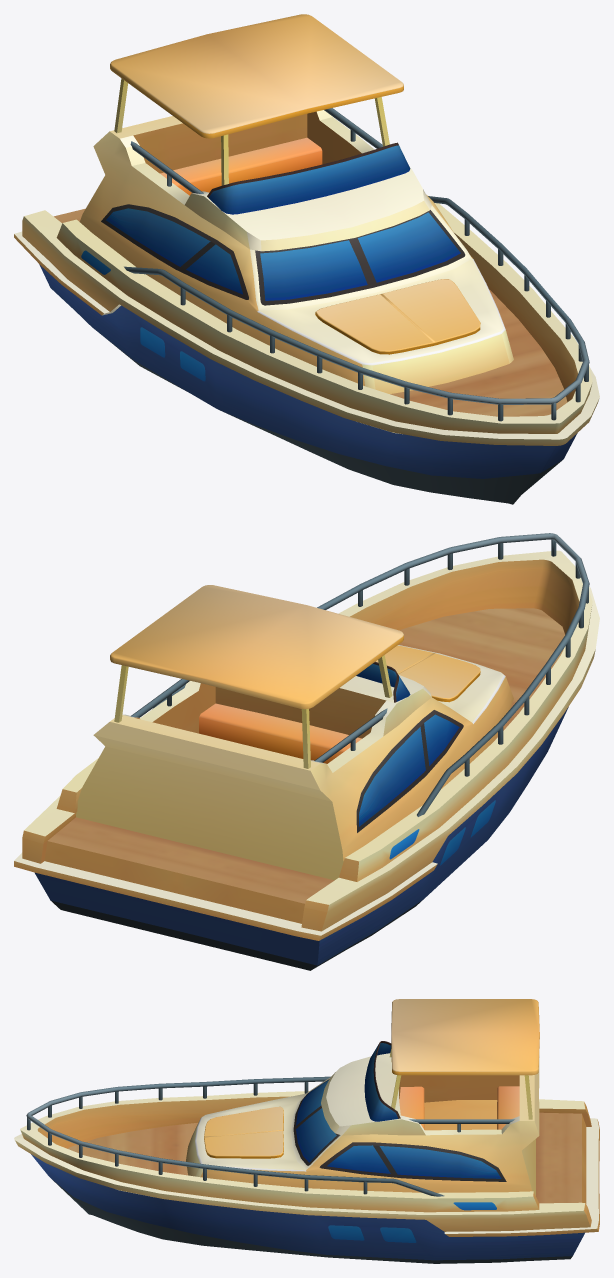
The model's file is Boat.fbx.
3 renders of one model, top to bottom at view 1: azimuth 30°, elevation 25°; view 2: azimuth 150°, elevation 25°; view 3: azimuth 270°, elevation 25°, orthographic. The views are drawn at different scales.
Parts seen in each view (by area): view 1: Boat01; view 2: Boat01; view 3: Boat01.
Boxes of the visible parts, <box> form: Boat01: <box>14,14,599,504</box>; Boat01: <box>14,533,599,970</box>; Boat01: <box>14,999,599,1263</box>.
Size of the model in its own units: 2.15 by 1.52 by 4.45.
